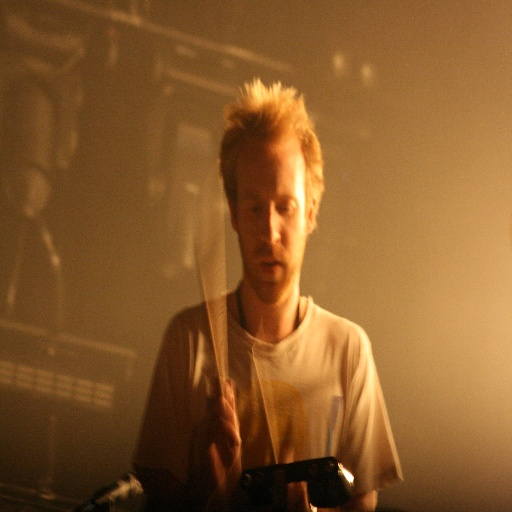hand: (198, 372, 245, 496)
